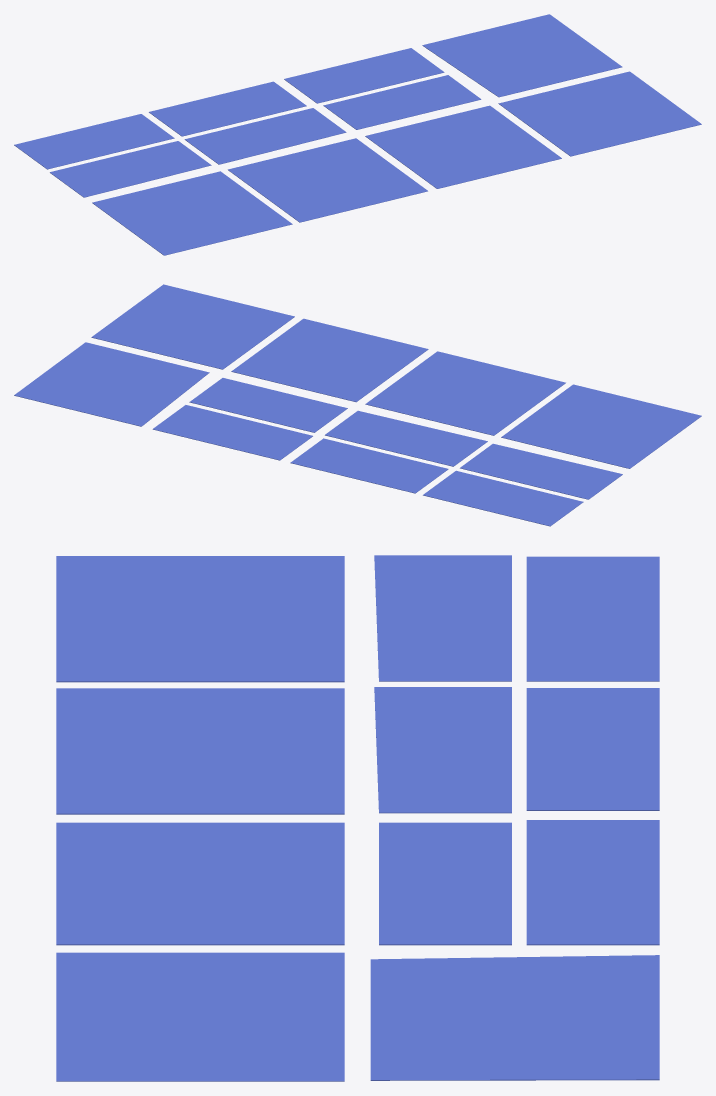
File: apples.fbx
3 views of the same model, one above another, from view 1: azimuth 30°, elevation 25°; view 2: azimuth 150°, elevation 25°; view 3: azimuth 270°, elevation 25° (orthographic). The views are drawn at different scales.
Parts seen in each view (by area): view 1: Apples Solid; view 2: Apples Solid; view 3: Apples Solid.
Part boxes in pixels (bbox=[...]): Apples Solid: bbox=[14, 14, 701, 255]; Apples Solid: bbox=[14, 284, 701, 526]; Apples Solid: bbox=[56, 555, 659, 1081].
Size of the model in its own units: 93510 by 64.01 by 45367.
